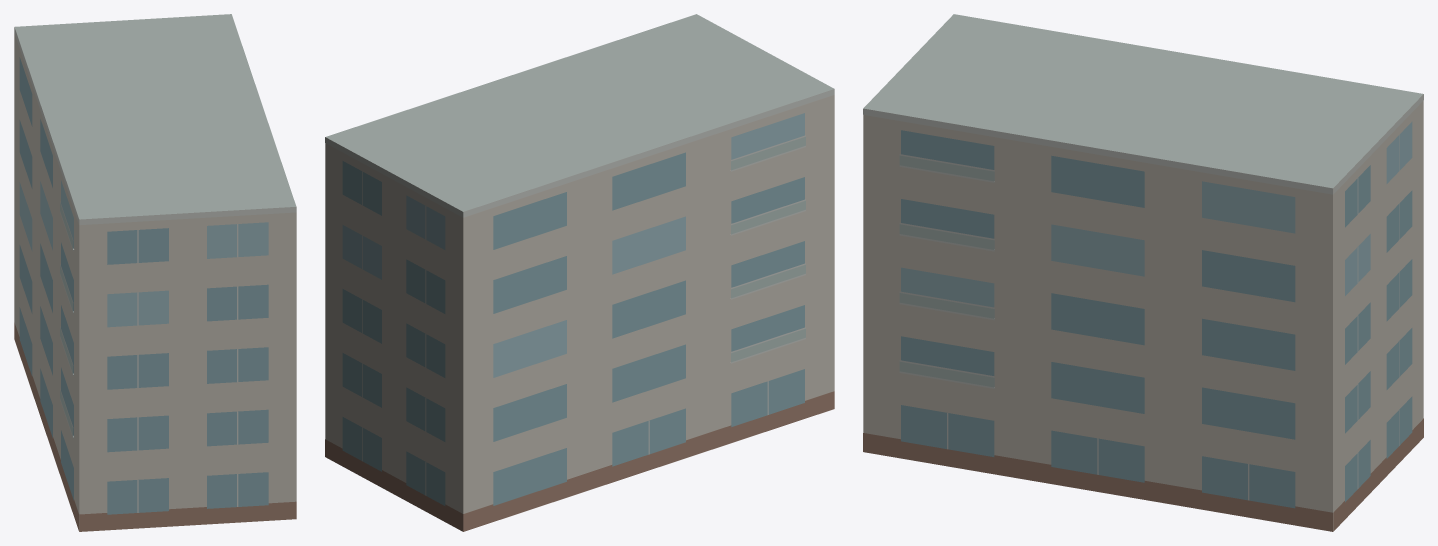
Rendered from survey-upis-32625820.glb.
3 renders of one model, left to right at view 1: azimuth 30°, elevation 25°; view 2: azimuth 150°, elevation 25°; view 3: azimuth 270°, elevation 25°, orthographic. The views are drawn at different scales.
Visible parts, largest first — view 1: survey-upis-32625820.tmp; view 2: survey-upis-32625820.tmp; view 3: survey-upis-32625820.tmp.
Part boxes in pixels (x1=…): survey-upis-32625820.tmp: x1=14, y1=14, x2=296, y2=531; survey-upis-32625820.tmp: x1=325, y1=14, x2=834, y2=531; survey-upis-32625820.tmp: x1=863, y1=14, x2=1423, y2=531.
Bounding box in the file's own units: 14.54 × 13.35 × 19.76.
